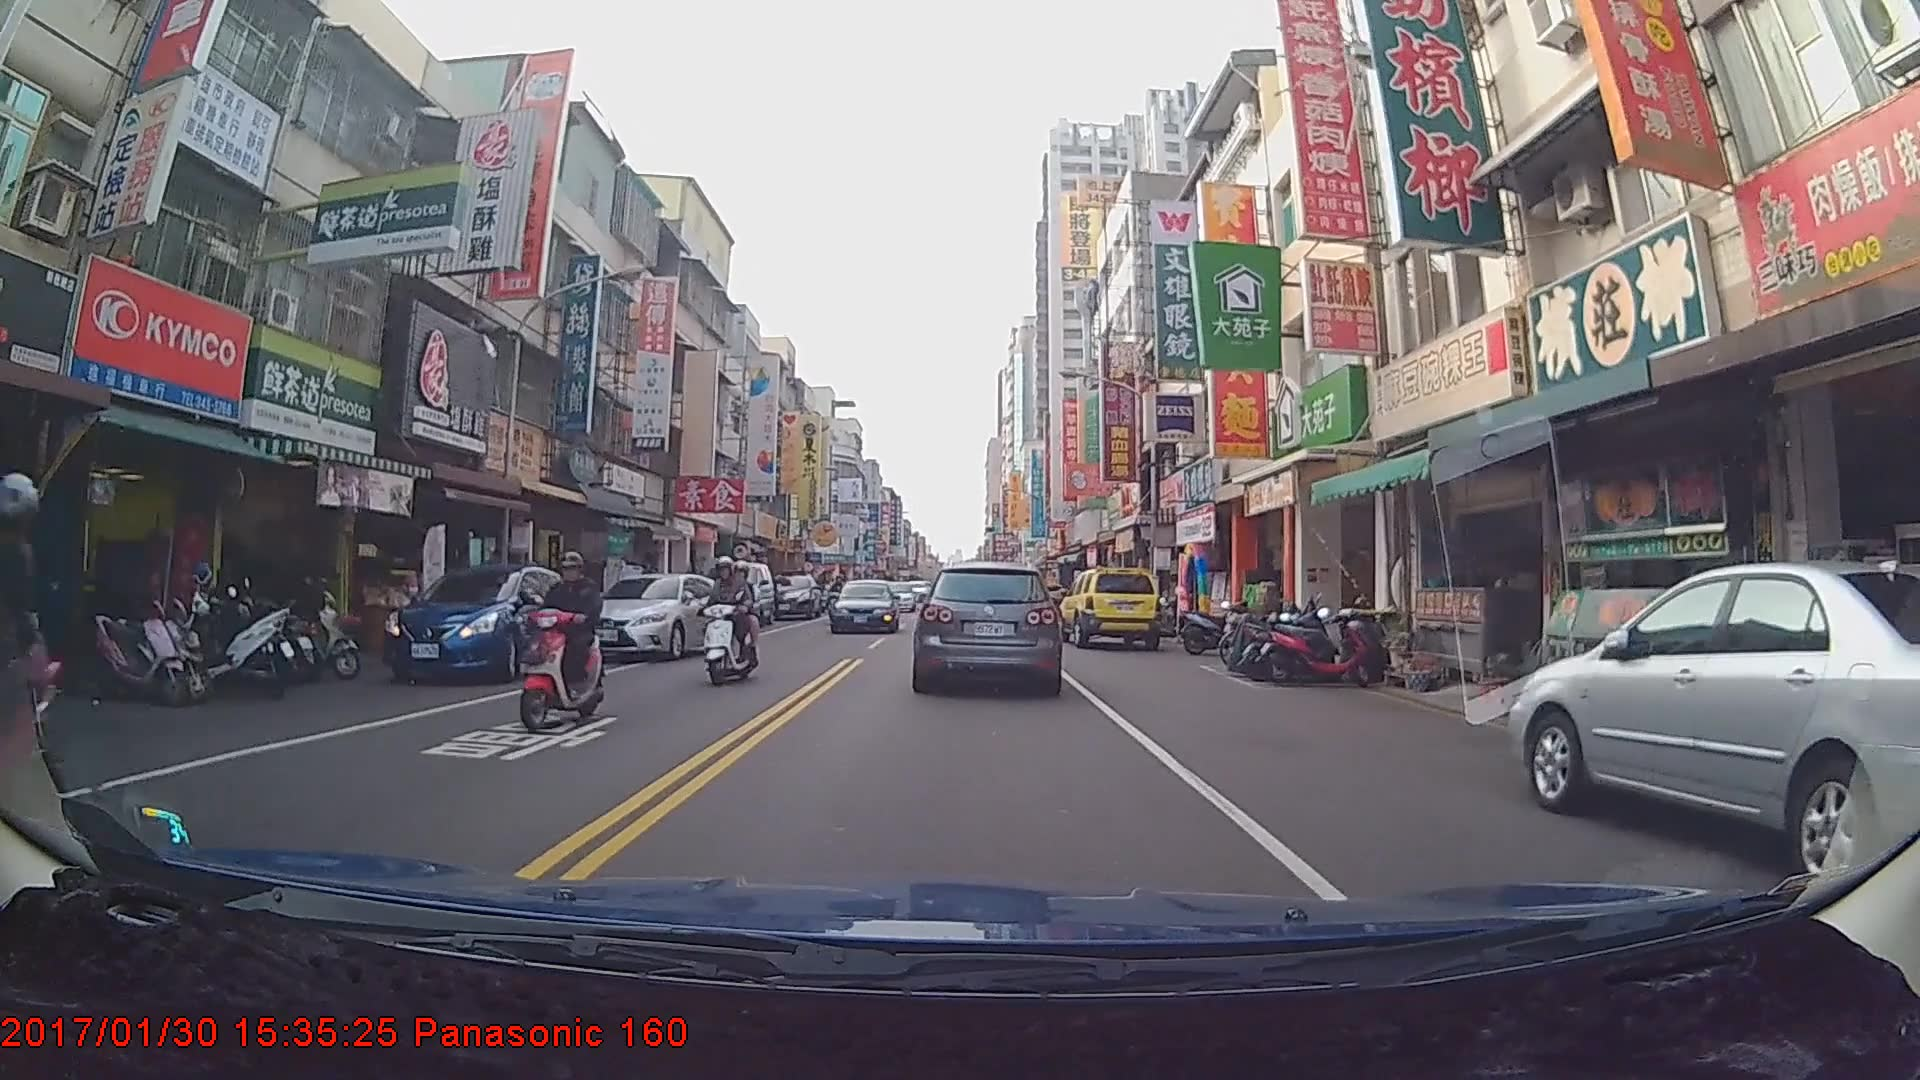rider: (512, 550, 613, 744), (698, 560, 771, 690)
vehicle: (1510, 563, 1920, 893), (378, 563, 585, 685), (916, 560, 1059, 694), (576, 580, 733, 668), (1057, 564, 1162, 650), (703, 559, 773, 627), (827, 581, 900, 637), (771, 569, 822, 621), (881, 580, 917, 613)
